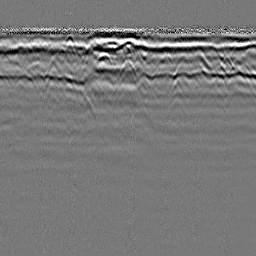cavity: (118, 57, 138, 80)
